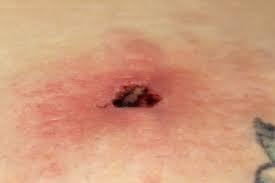Spider: (112, 81, 162, 108)
